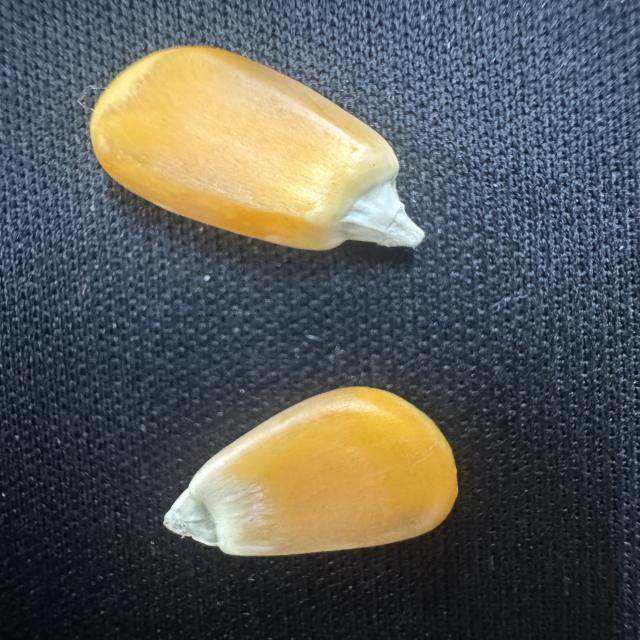Good-Seed: (85, 40, 431, 262), (151, 380, 470, 562)
